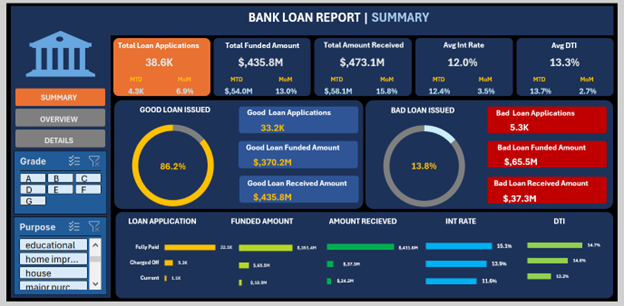

The dashboard page shown, as its layout file describes it:
{"tool":"tableau","page":{"name":"Summary Dashboard","canvas":[1600,900],"ordinal":2},"visuals":[{"type":"image","param":"C:/Users/JOY/Downloads/summary-01.jpg","box":[8,8,1584,884]},{"type":"text","box":[445,24,731,50]},{"type":"text","box":[555,96,188,35]},{"type":"text","box":[280,97,200,34]},{"type":"text","box":[816,97,199,30]},{"type":"text","box":[1091,97,185,30]},{"type":"text","box":[1386,97,109,30]},{"type":"worksheet","title":"Avg Interest Rate","mark":"Automatic","box":[1139,136,88,40]},{"type":"worksheet","title":"Total Amount Received","mark":"Automatic","box":[863,139,95,36]},{"type":"worksheet","title":"Total Funded Amount","mark":"Automatic","box":[600,142,101,34]},{"type":"worksheet","title":"Average DTI","mark":"Automatic","box":[1390,143,109,32]},{"type":"worksheet","title":"Total Loan Applications","mark":"Automatic","box":[338,144,87,33]},{"type":"text","box":[1449,180,110,30]},{"type":"text","box":[1066,181,100,30]},{"type":"text","box":[398,182,90,30]},{"type":"text","box":[535,182,100,30]},{"type":"text","box":[661,182,100,30]},{"type":"text","box":[801,182,100,30]},{"type":"text","box":[927,182,100,30]},{"type":"text","box":[1185,182,112,30]},{"type":"text","box":[1355,183,59,30]},{"type":"text","box":[283,184,83,29]},{"type":"worksheet","title":"MTD Total Amount Received","mark":"Automatic","box":[812,215,87,36]},{"type":"worksheet","title":"MTD Average DTI","mark":"Automatic","box":[1340,215,88,35]},{"type":"worksheet","title":"MTD Total Funded Amount","mark":"Automatic","box":[543,217,87,34]},{"type":"worksheet","title":"MoM Total Amount Received","mark":"Automatic","box":[938,217,82,35]},{"type":"worksheet","title":"MoM Total Funded Amount","mark":"Automatic","box":[672,218,82,33]},{"type":"worksheet","title":"MoM Average Interest Rate","mark":"Automatic","box":[1191,218,99,34]},{"type":"worksheet","title":"MoM Average DTI","mark":"Automatic","box":[1471,218,76,34]},{"type":"worksheet","title":"MTD Total Loan Applications","mark":"Automatic","box":[288,219,75,32]},{"type":"worksheet","title":"MoM Total Loan Applications","mark":"Automatic","box":[401,220,92,32]},{"type":"worksheet","title":"MTD Avg Interest Rate","mark":"Automatic","box":[1080,220,79,31]},{"type":"dashboard-object","box":[51,237,176,51]},{"type":"worksheet","title":"Good Loan Vs Bad Loan Copy","mark":"Pie","rows":["Calculation_0282077807128601","Calculation_0282077807128601"],"box":[921,273,279,343]},{"type":"worksheet","title":"Good VS Bad Loan","mark":"Pie","rows":["Calculation_0282077807128601","Calculation_0282077807128601"],"box":[263,277,279,340]},{"type":"worksheet","title":"Good Loan Applications","mark":"Automatic","box":[570,280,334,78]},{"type":"worksheet","title":"Bad Loan Applications","mark":"Automatic","box":[1233,281,312,74]},{"type":"dashboard-object","box":[50,311,174,51]},{"type":"worksheet","title":"Bad Loan Funded Amount","mark":"Automatic","box":[1234,380,308,76]},{"type":"worksheet","title":"Good Loan Funded Amount","mark":"Automatic","box":[570,382,337,73]},{"type":"dashboard-object","box":[51,384,173,52]},{"type":"worksheet","title":"% Bad Loan Applications ","mark":"Automatic","box":[996,412,131,106]},{"type":"worksheet","title":"% Good Loan Applications","mark":"Automatic","box":[333,419,141,94]},{"type":"worksheet","title":"Good Loan Total Received Amount","mark":"Automatic","box":[571,478,333,73]},{"type":"worksheet","title":"Bad Loan Total Received Amount ","mark":"Automatic","box":[1234,478,313,80]},{"type":"filter","title":"Good VS Bad Loan","param":"[federated.02bapp10spx5te19axciv0uohof1].[none:purpose:nk]","box":[50,590,176,52]},{"type":"worksheet","title":"Loan Staus App","mark":"Automatic","rows":["loan_status"],"box":[263,623,1305,256]},{"type":"filter","title":"Good VS Bad Loan","param":"[federated.02bapp10spx5te19axciv0uohof1].[none:verification_status:nk]","box":[51,663,174,140]},{"type":"filter","title":"Good VS Bad Loan","param":"[federated.02bapp10spx5te19axciv0uohof1].[none:grade:nk]","box":[51,737,175,52]}]}

Visuals, with their boxes on the page's 1600x900 design canvas (x1, y1, x2, y2). These are canvas units, not pixel positions in the 624x306 screenshot, which may show the page scaled, cropped or inside an application window:
image: select_region(8, 8, 1592, 892)
text: select_region(445, 24, 1176, 74)
text: select_region(555, 96, 743, 131)
text: select_region(280, 97, 480, 131)
text: select_region(816, 97, 1015, 127)
text: select_region(1091, 97, 1276, 127)
text: select_region(1386, 97, 1495, 127)
"Avg Interest Rate" worksheet: select_region(1139, 136, 1227, 176)
"Total Amount Received" worksheet: select_region(863, 139, 958, 175)
"Total Funded Amount" worksheet: select_region(600, 142, 701, 176)
"Average DTI" worksheet: select_region(1390, 143, 1499, 175)
"Total Loan Applications" worksheet: select_region(338, 144, 425, 177)
text: select_region(1449, 180, 1559, 210)
text: select_region(1066, 181, 1166, 211)
text: select_region(398, 182, 488, 212)
text: select_region(535, 182, 635, 212)
text: select_region(661, 182, 761, 212)
text: select_region(801, 182, 901, 212)
text: select_region(927, 182, 1027, 212)
text: select_region(1185, 182, 1297, 212)
text: select_region(1355, 183, 1414, 213)
text: select_region(283, 184, 366, 213)
"MTD Total Amount Received" worksheet: select_region(812, 215, 899, 251)
"MTD Average DTI" worksheet: select_region(1340, 215, 1428, 250)
"MTD Total Funded Amount" worksheet: select_region(543, 217, 630, 251)
"MoM Total Amount Received" worksheet: select_region(938, 217, 1020, 252)
"MoM Total Funded Amount" worksheet: select_region(672, 218, 754, 251)
"MoM Average Interest Rate" worksheet: select_region(1191, 218, 1290, 252)
"MoM Average DTI" worksheet: select_region(1471, 218, 1547, 252)
"MTD Total Loan Applications" worksheet: select_region(288, 219, 363, 251)
"MoM Total Loan Applications" worksheet: select_region(401, 220, 493, 252)
"MTD Avg Interest Rate" worksheet: select_region(1080, 220, 1159, 251)
dashboard-object: select_region(51, 237, 227, 288)
"Good Loan Vs Bad Loan Copy" worksheet (Pie marks): select_region(921, 273, 1200, 616)
"Good VS Bad Loan" worksheet (Pie marks): select_region(263, 277, 542, 617)
"Good Loan Applications" worksheet: select_region(570, 280, 904, 358)
"Bad Loan Applications" worksheet: select_region(1233, 281, 1545, 355)
dashboard-object: select_region(50, 311, 224, 362)
"Bad Loan Funded Amount" worksheet: select_region(1234, 380, 1542, 456)
"Good Loan Funded Amount" worksheet: select_region(570, 382, 907, 455)
dashboard-object: select_region(51, 384, 224, 436)
"% Bad Loan Applications " worksheet: select_region(996, 412, 1127, 518)
"% Good Loan Applications" worksheet: select_region(333, 419, 474, 513)
"Good Loan Total Received Amount" worksheet: select_region(571, 478, 904, 551)
"Bad Loan Total Received Amount " worksheet: select_region(1234, 478, 1547, 558)
"Good VS Bad Loan" filter: select_region(50, 590, 226, 642)
"Loan Staus App" worksheet: select_region(263, 623, 1568, 879)
"Good VS Bad Loan" filter: select_region(51, 663, 225, 803)
"Good VS Bad Loan" filter: select_region(51, 737, 226, 789)
